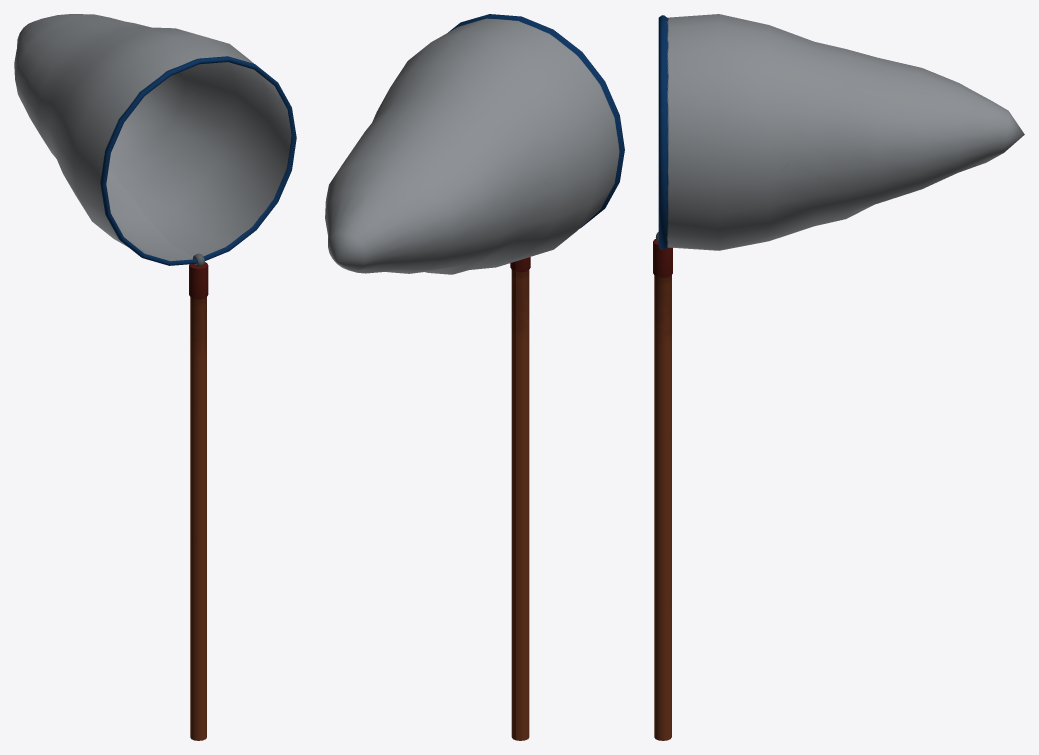
Rendered from Net.fbx.
3 renders of one model, left to right at view 1: azimuth 30°, elevation 25°; view 2: azimuth 150°, elevation 25°; view 3: azimuth 270°, elevation 25°, orthographic. The views are drawn at different scales.
Parts seen in each view (by area): view 1: Net2, NetHandle2; view 2: Net2, NetHandle2; view 3: Net2, NetHandle2.
Part boxes in pixels (x1,y1,x2,y2): Net2: (14,14,296,265); NetHandle2: (189,262,208,740); Net2: (325,14,624,274); NetHandle2: (510,257,530,740); Net2: (658,14,1024,250); NetHandle2: (653,239,672,740).
Bounding box in the file's own units: 4.44 × 14.62 × 6.91.
